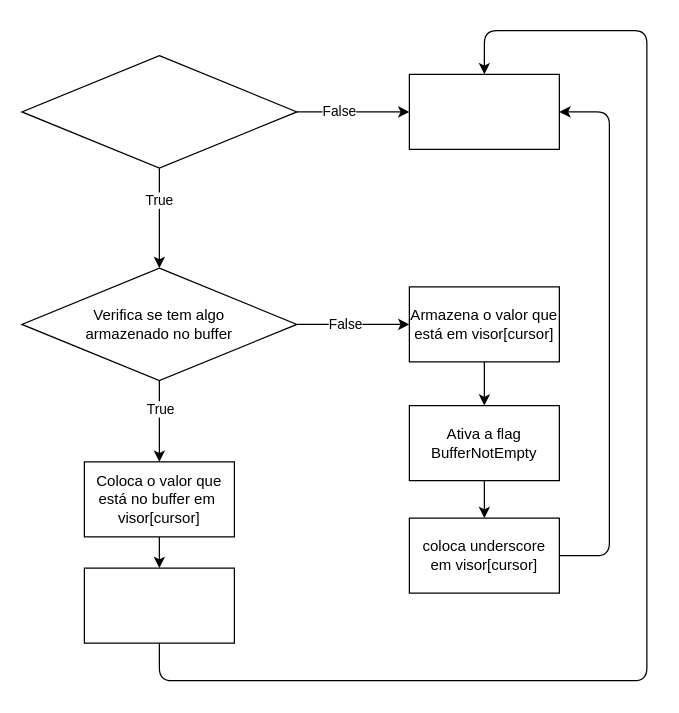
Some shapes in this 679 by 713 pixel diagram are drawn without their labels. The centre of each missing label's shape, as x and y in pixels:
"Desativa a flag BufferNotEmpty" belongs at (x=158, y=605).
"sai da rotina de tratamento" belongs at (x=483, y=111).
"Verifica se getchar está ativo" belongs at (x=159, y=111).
